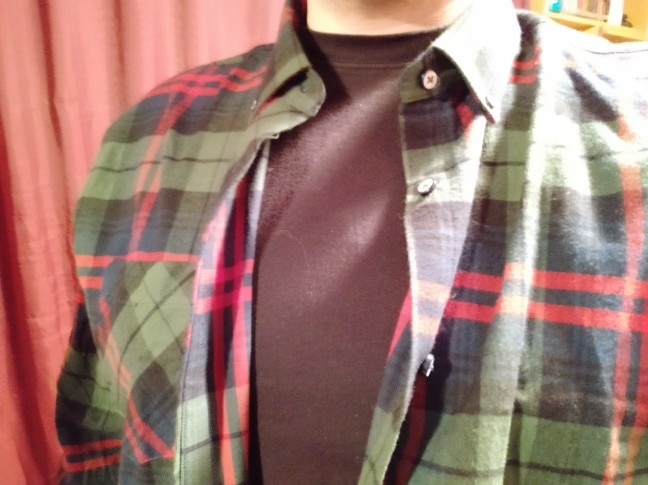shirts: (84, 8, 648, 484)
